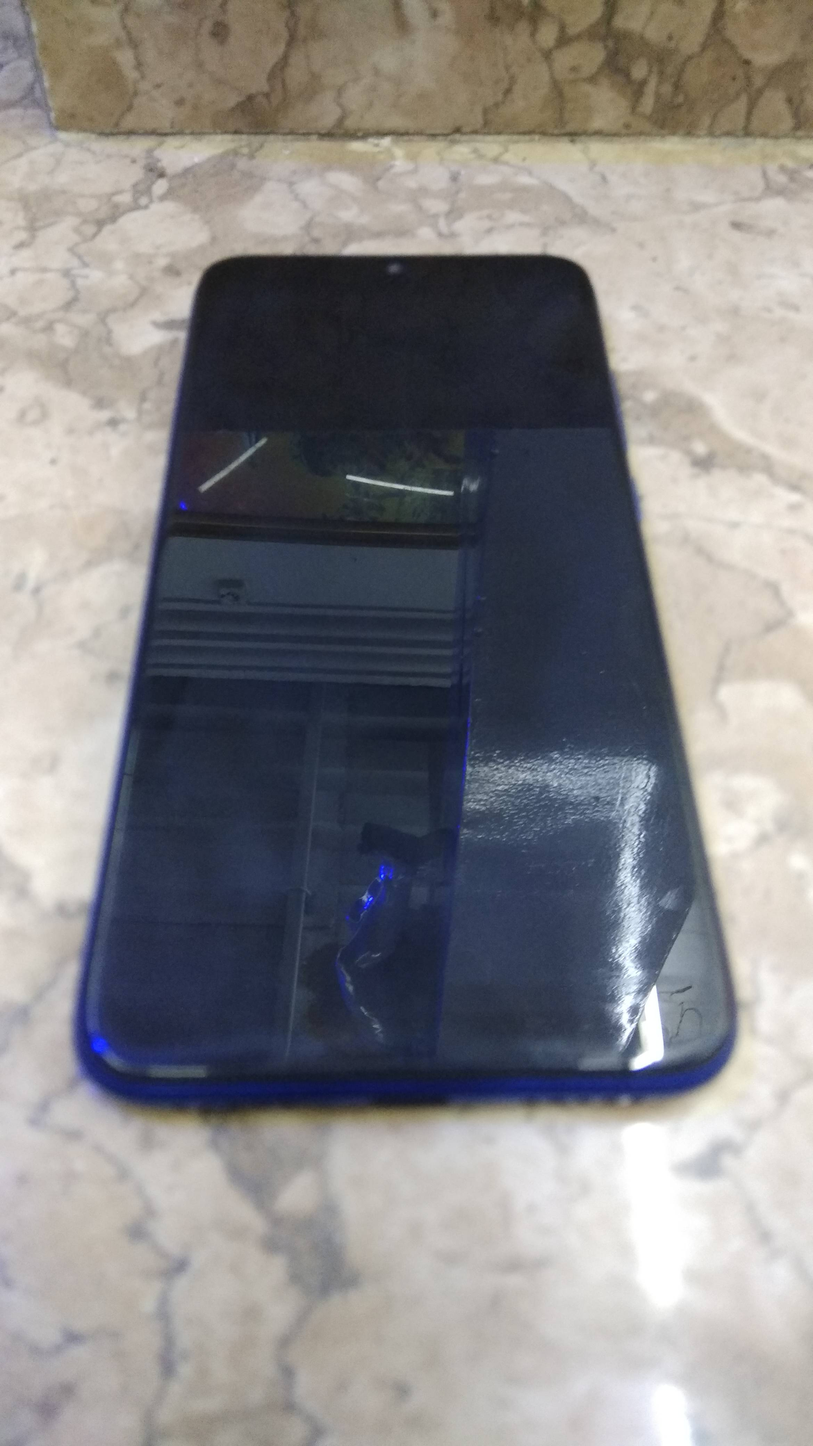Electronics: (39, 222, 769, 1145)
